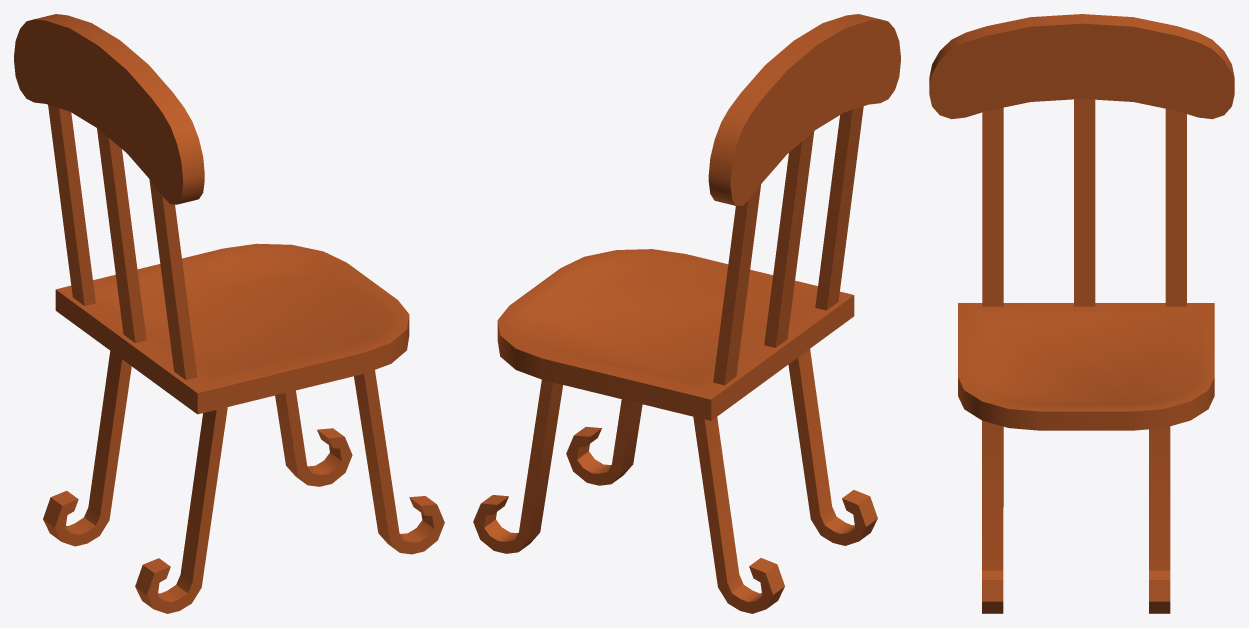
The model's file is alexc_office_chair.fbx.
3 renders of one model, left to right at view 1: azimuth 30°, elevation 25°; view 2: azimuth 150°, elevation 25°; view 3: azimuth 270°, elevation 25°, orthographic. The views are drawn at different scales.
Parts seen in each view (by area): view 1: office_chair; view 2: office_chair; view 3: office_chair.
Boxes of the visible parts, box(x1,y1,x2,y2) form: office_chair: box(14, 14, 444, 613); office_chair: box(473, 14, 900, 613); office_chair: box(929, 14, 1234, 613).
Size of the model in its own units: 242 by 238 by 413.
